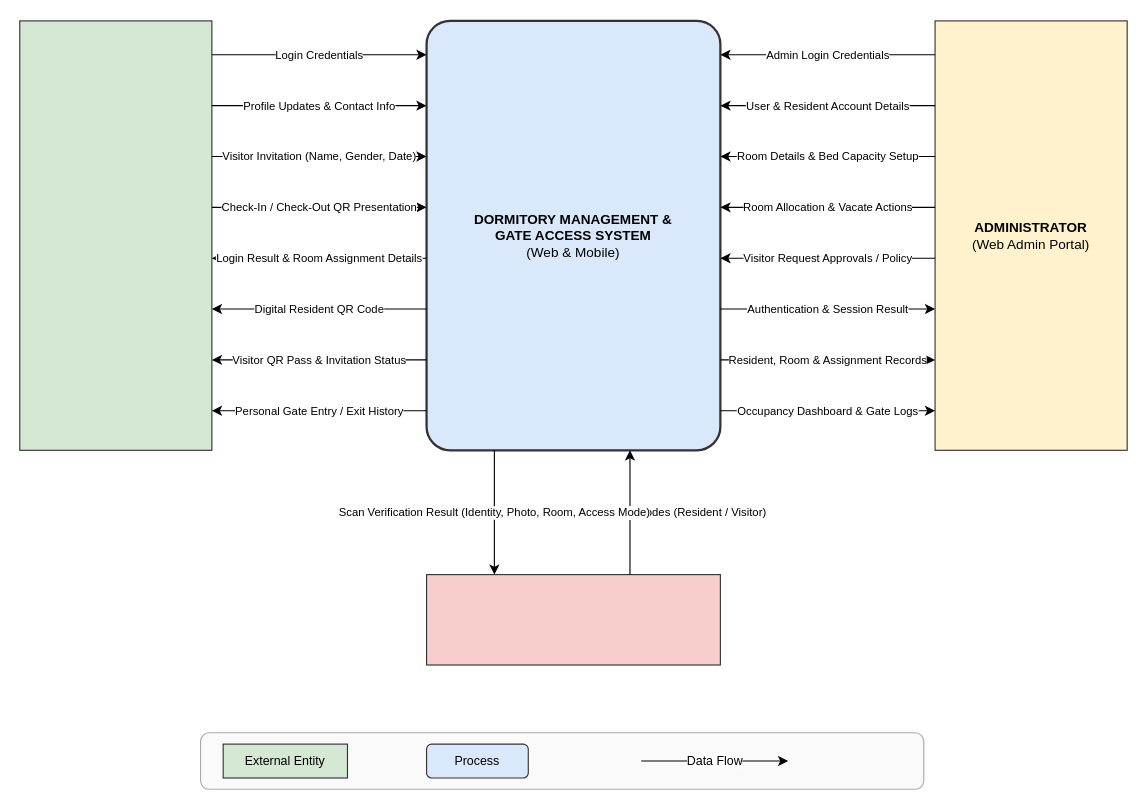
Some shapes in this 1147 by 809 pixel diagram are drawn without their labels. Here are the shapes that lost their labels. From the top down, the box of each, then its label:
(19, 20, 212, 450): RESIDENT (Web / Mobile App)
(425, 573, 720, 665): SECURITY GUARD (Mobile Scanner / Guard Portal)
